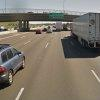Car: (1, 40, 26, 92)
